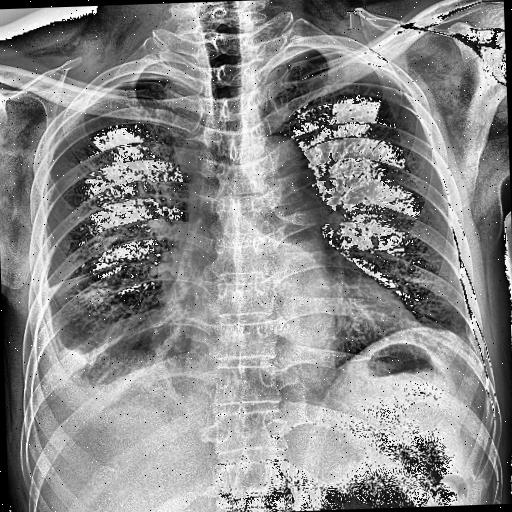10- Pleural effusion: (26, 268, 208, 424), (12, 243, 170, 412), (20, 271, 150, 411)
